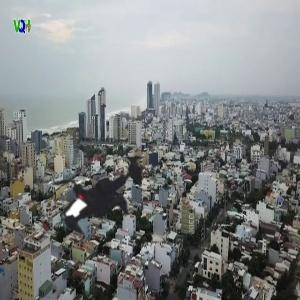drone: (21, 109, 178, 266)
